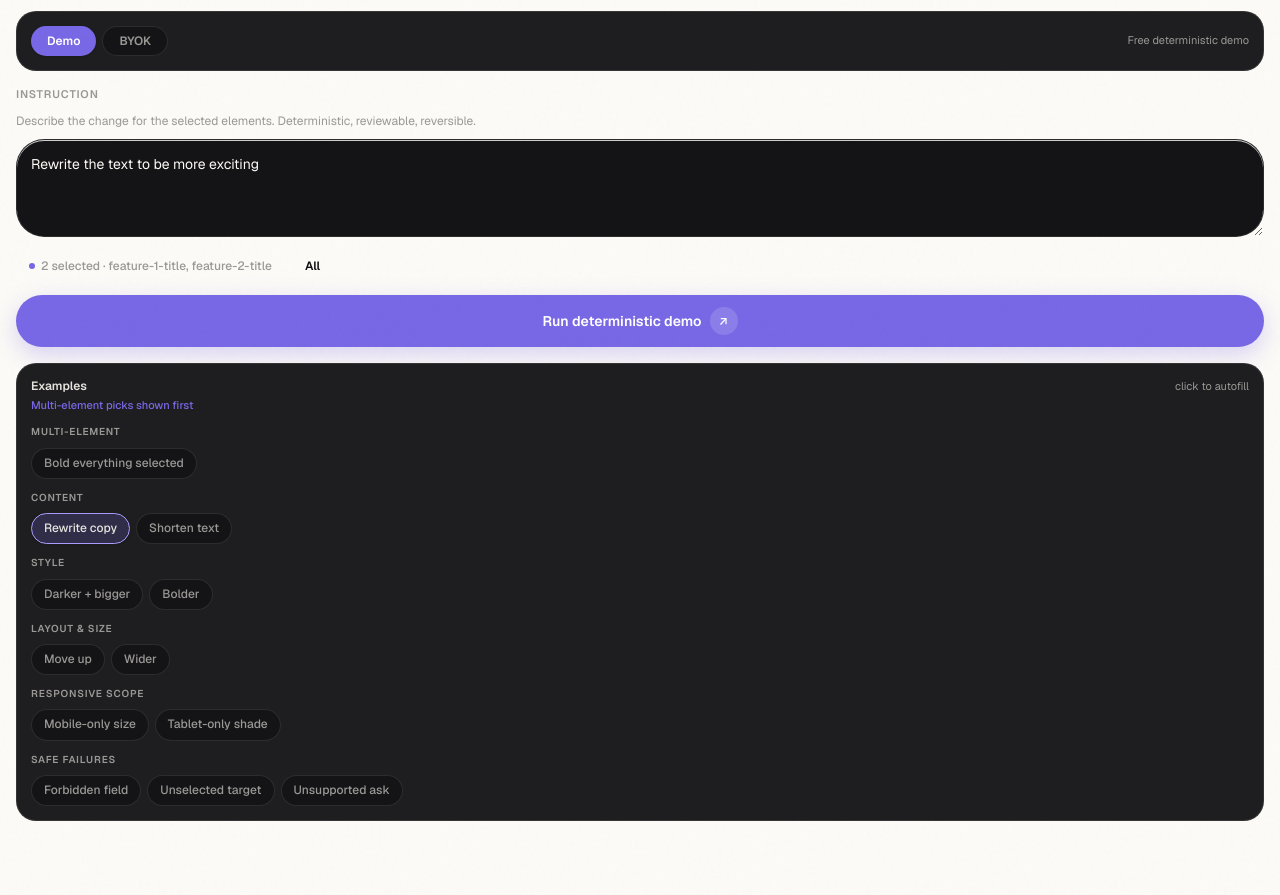
Test case: AiPanel › runs a demo from example chips and accepts one proposal independently
The image size is (1280, 895).
Click the button with aria-label "Autofill Bold everything selected" at (114,463), box [31,448,197,479]
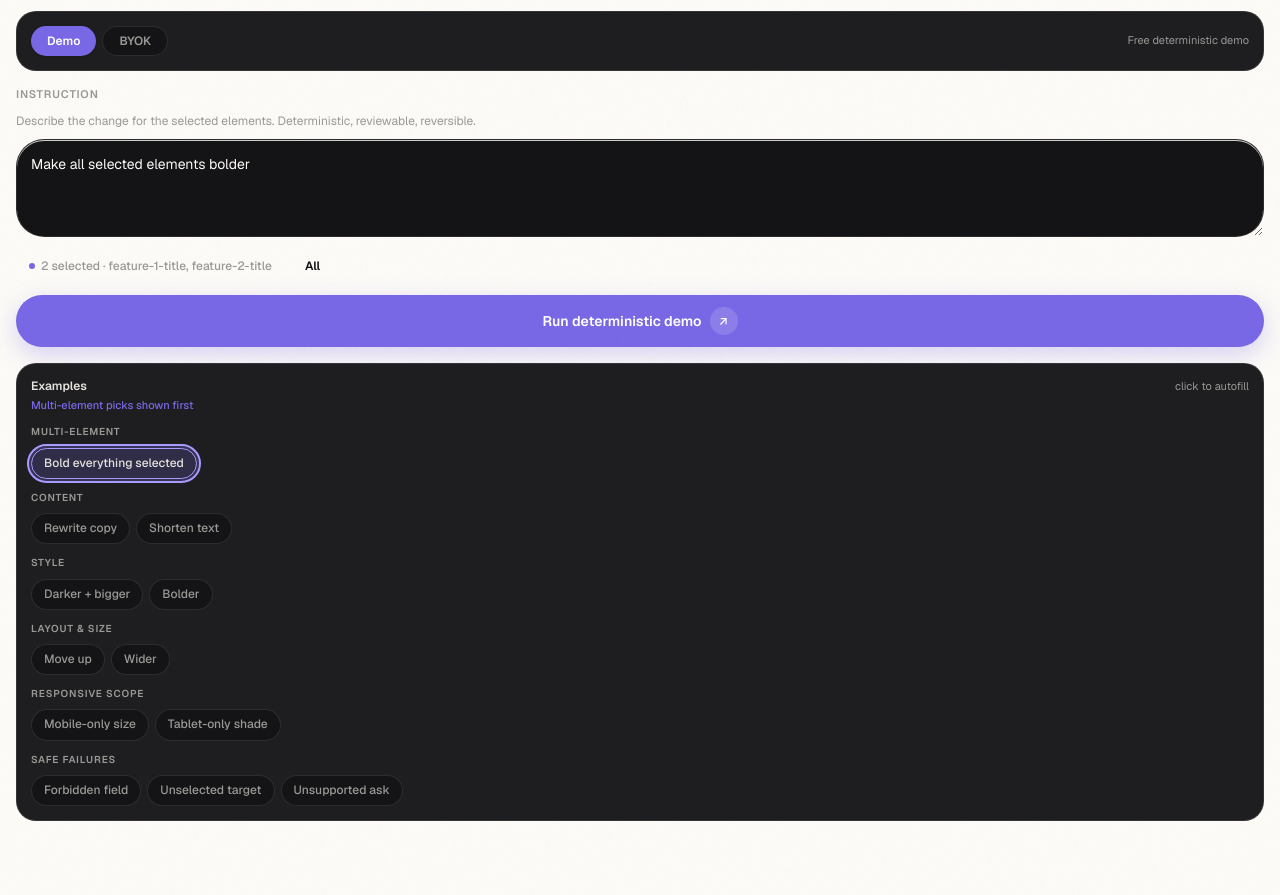
Click the button "Run deterministic demo ↗" at (640,321), box [16,295,1264,347]
(page scrolled)
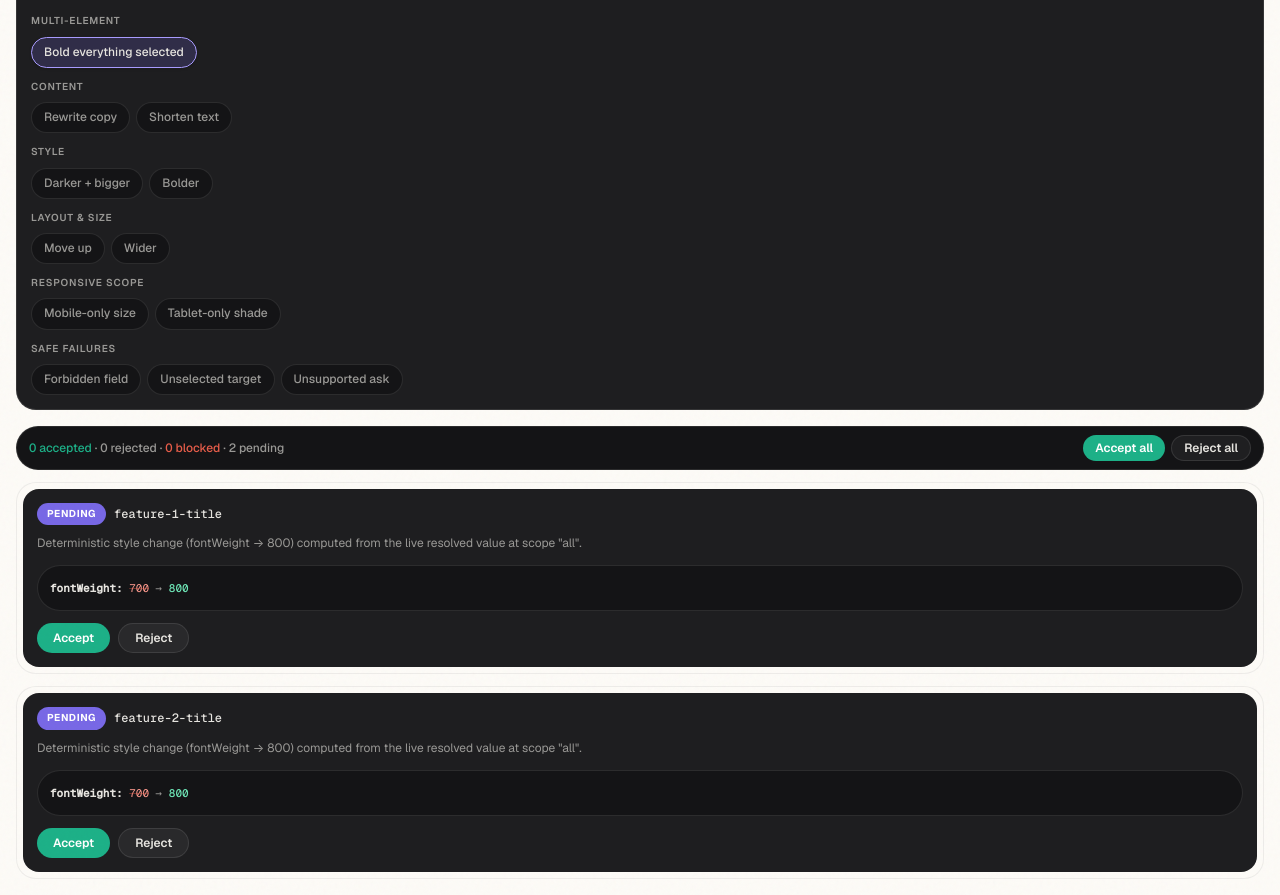
Click the 1st button "Accept" at (74,638), box [37,623,110,653]
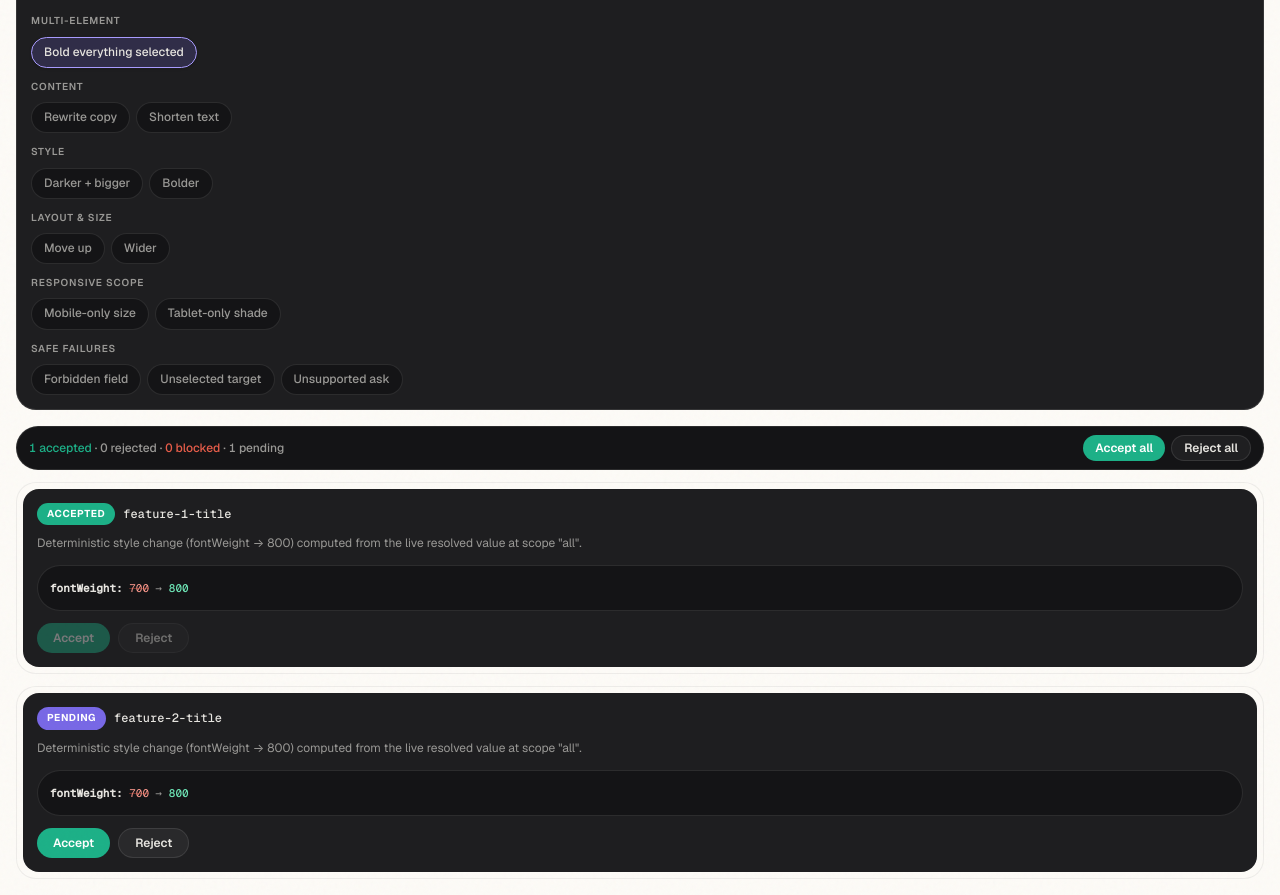
Now the element with test id "review-summary" shows "1 accepted", box [29,440,284,456]
